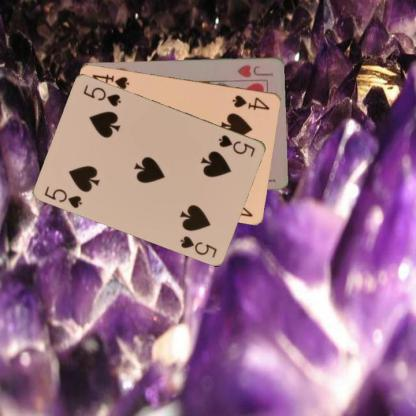4s: (230, 92, 271, 111)
5s: (42, 183, 84, 210), (216, 132, 257, 158)
Jh: (235, 62, 275, 79)
